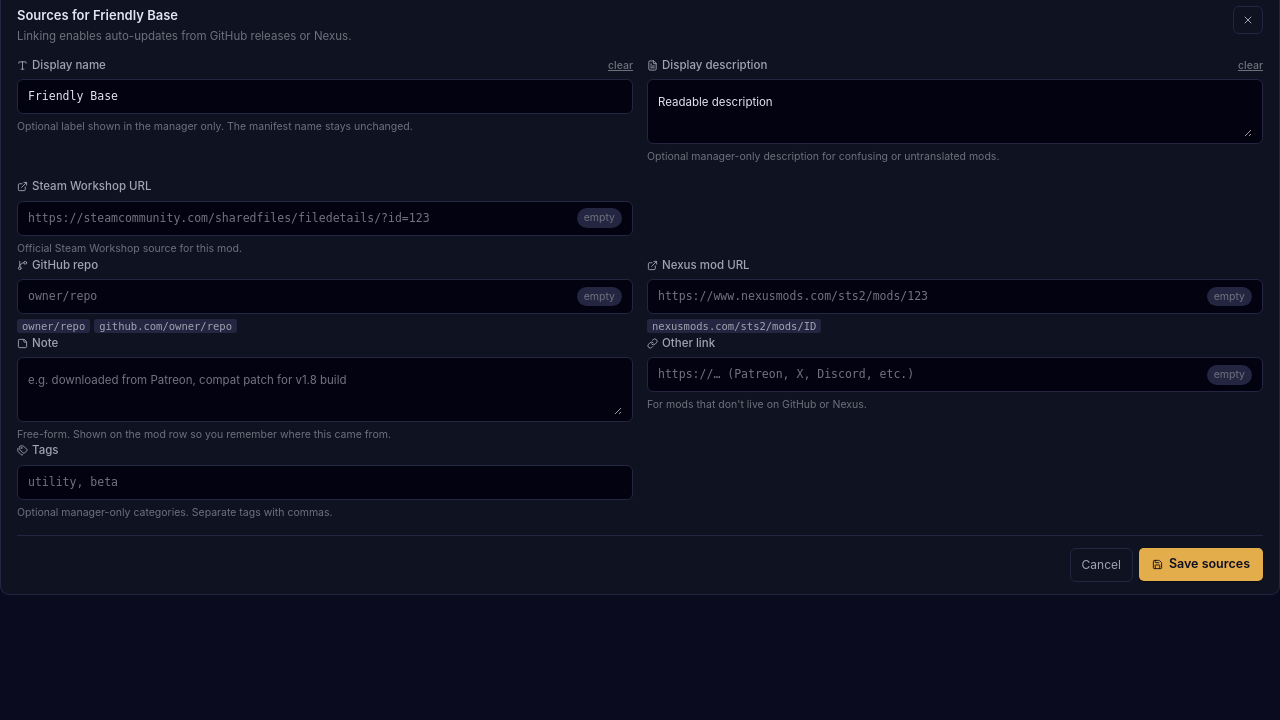
Test case: <SourceEditor> › clear buttons next to display override fields reset those values
expect the element with placeholder "BaseLib" is shown: met, box [17,57,633,164]
Click the button "clear" in the row of "Display name". click: [620, 65]
box: [608,58,633,73]
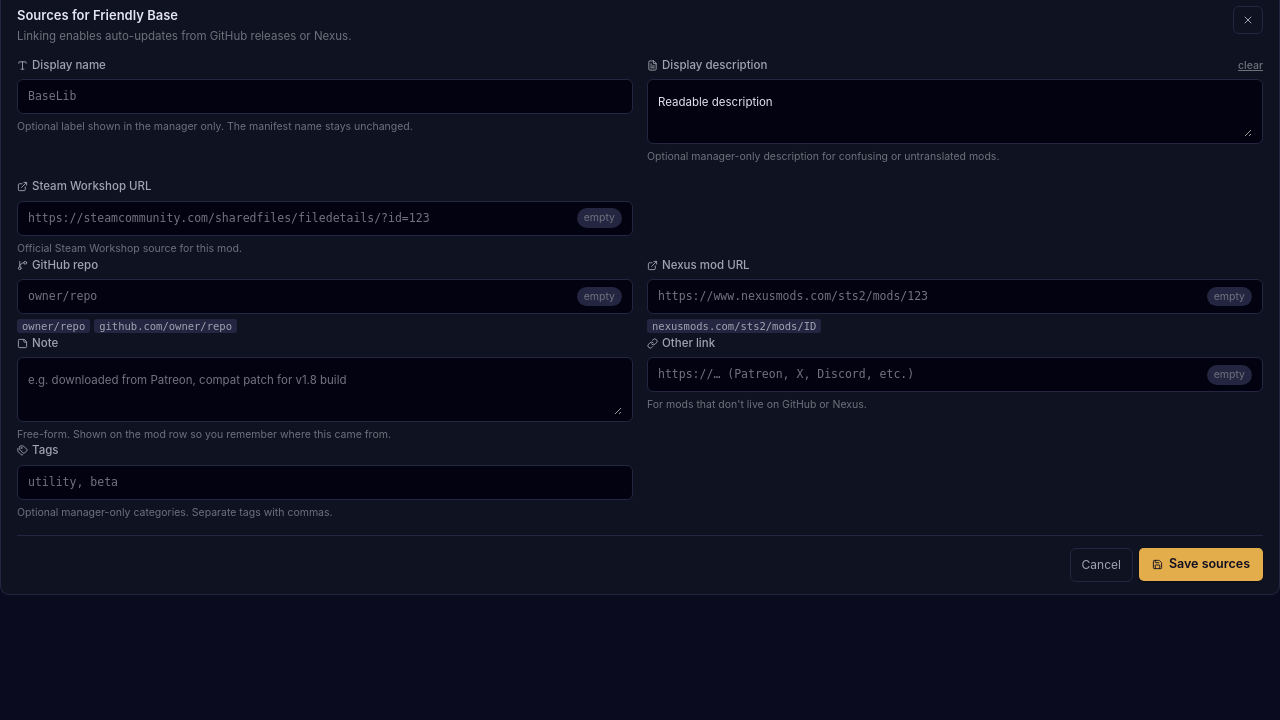
expect the element with placeholder "Manifest description" is shown: met, box [647,57,1263,164]
expect the field with placeholder "BaseLib" is empty: met, box [28,80,622,113]
Click the button "clear". click: [1250, 65]
box: [1238,58,1263,73]
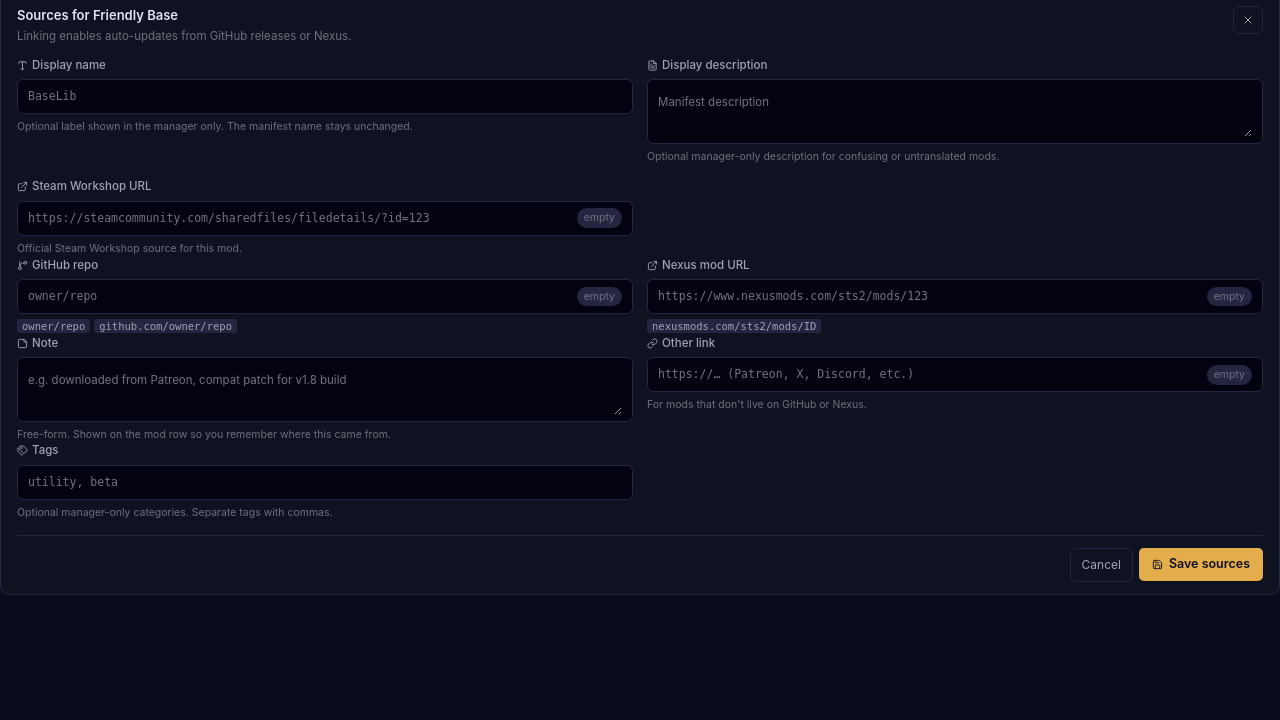
expect the text box with placeholder "Manifest description" is empty: met, box [658,86,1252,136]
